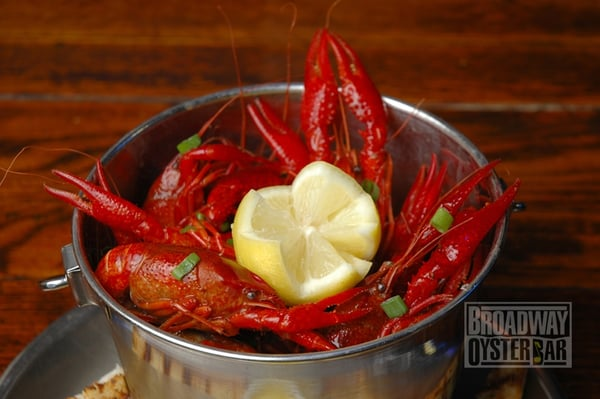sushi: (92, 21, 514, 394), (68, 128, 521, 395)
